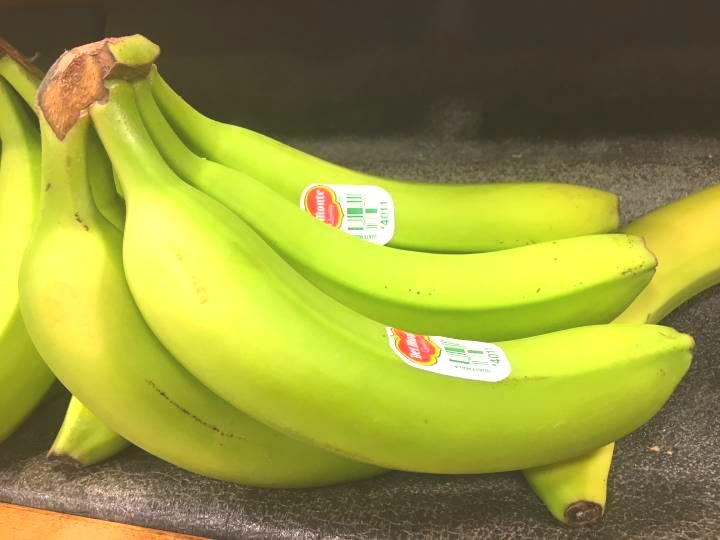Banana Unripe: (23, 30, 716, 533)
